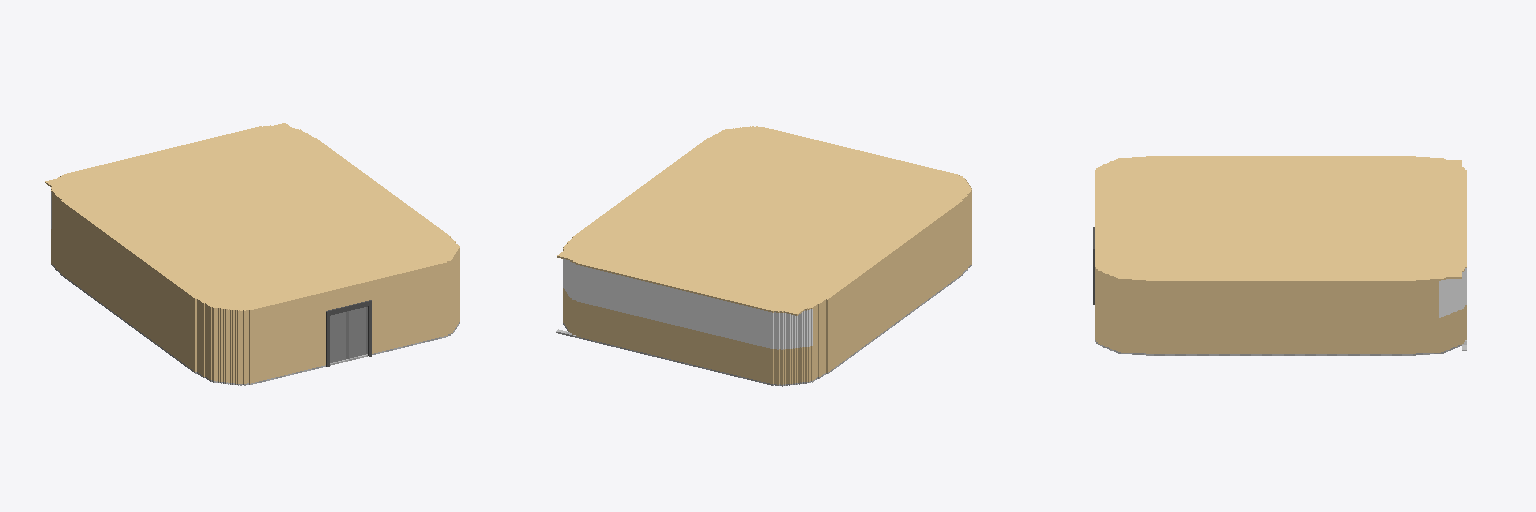
The picture shows the model from 3 angles: view 1: azimuth 30°, elevation 25°; view 2: azimuth 150°, elevation 25°; view 3: azimuth 270°, elevation 25°; orthographic projection.
Visible parts, largest first — view 1: object 1; view 2: object 1; view 3: object 1.
Part boxes in pixels (x1,y1,x2,y2): object 1: (45, 123, 459, 385); object 1: (556, 126, 971, 386); object 1: (1093, 156, 1466, 355).
Size of the model in its own units: 16.8 by 4.7 by 21.3.
1 materials, 1 textured.